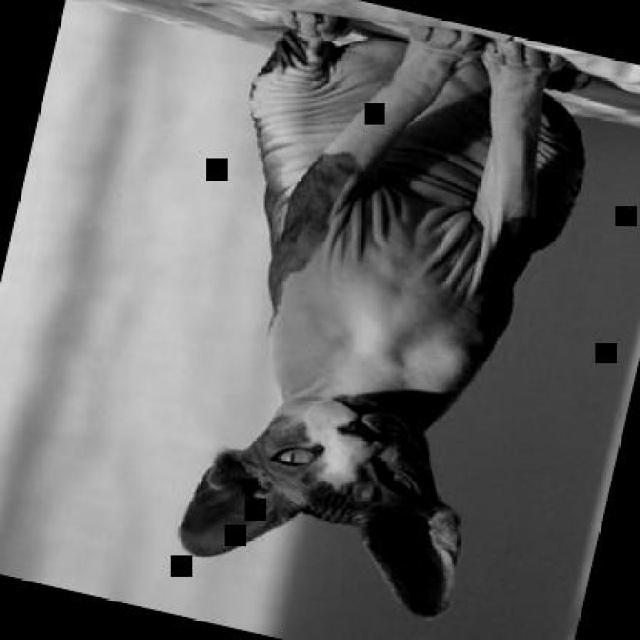cat: (141, 0, 610, 632)
